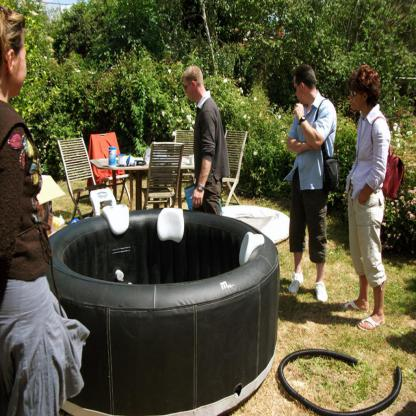face: (7, 35, 28, 95), (350, 85, 365, 110), (184, 79, 197, 103), (294, 77, 305, 104), (278, 26, 286, 38)
